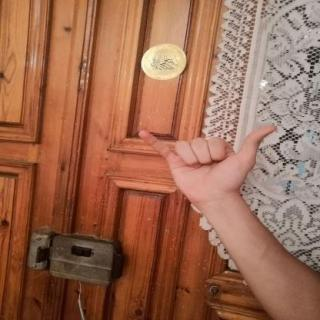YA: (127, 118, 290, 210)
